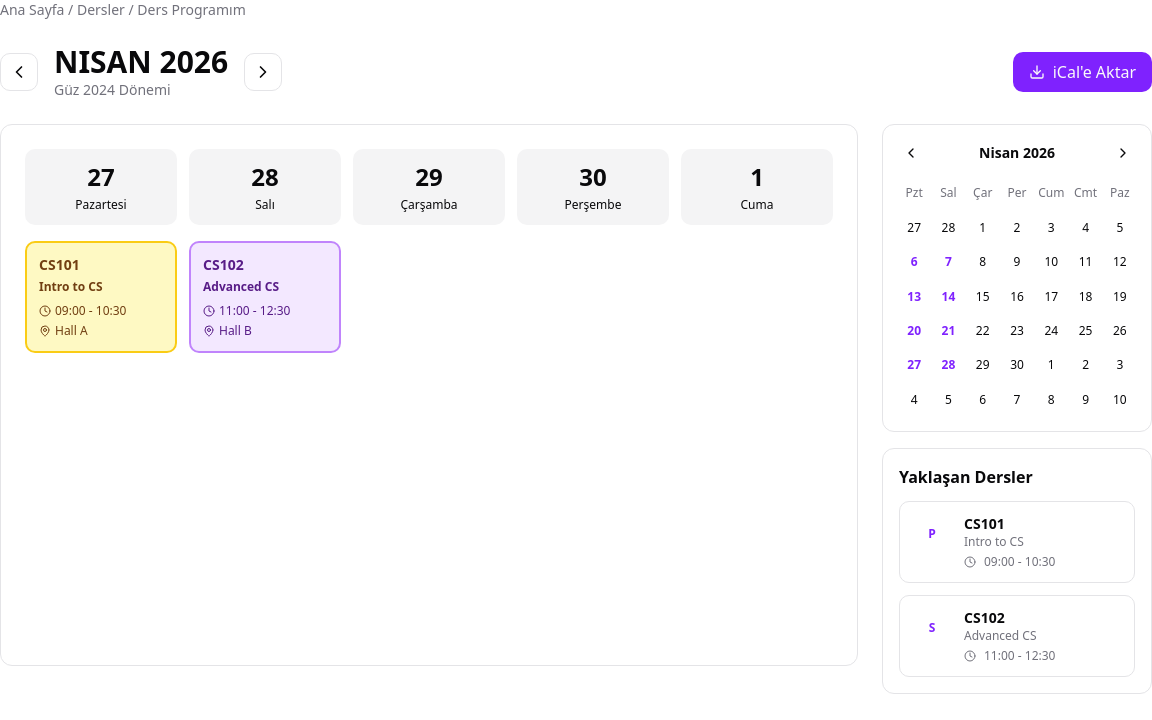
it: SchedulePage › opens course detail modal on click
What coordinates should you click on to do the following:
click the text "CS101" below "Pazartesi"
I would click on:
 (59, 264)
Its box is [39,255,80,274].
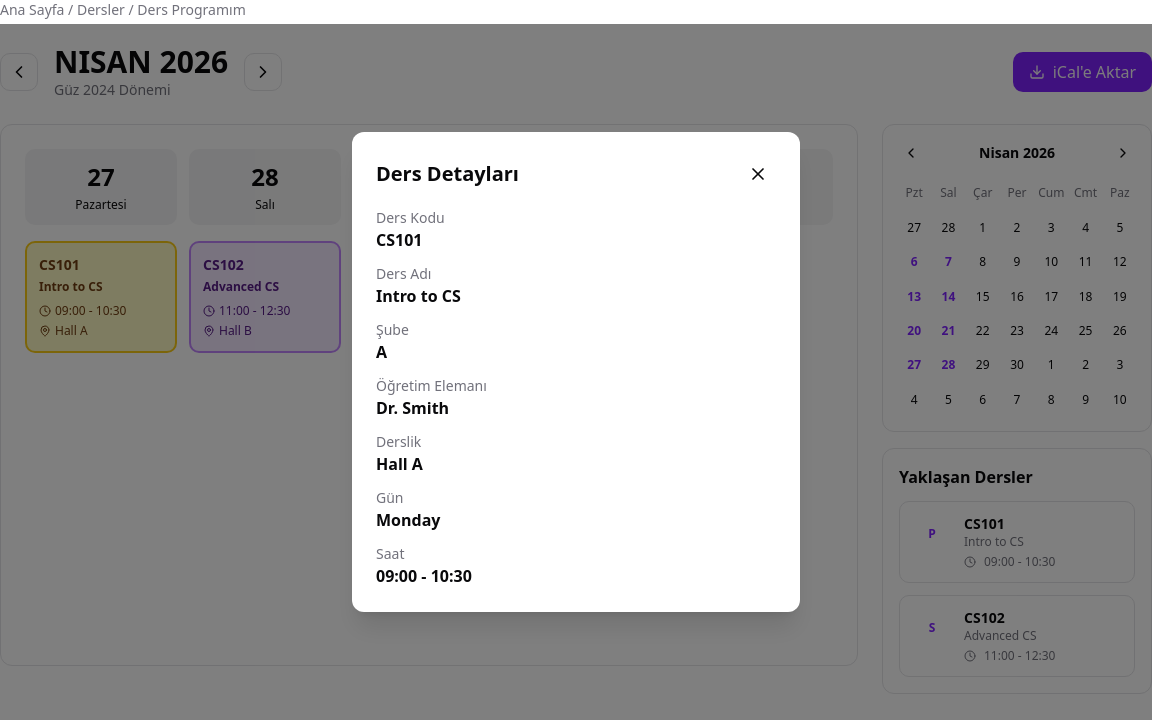
Now the heading "Ders Detayları" is shown, box [376,160,519,188]
Now the text "Dr. Smith" is shown, box [376,397,449,419]
